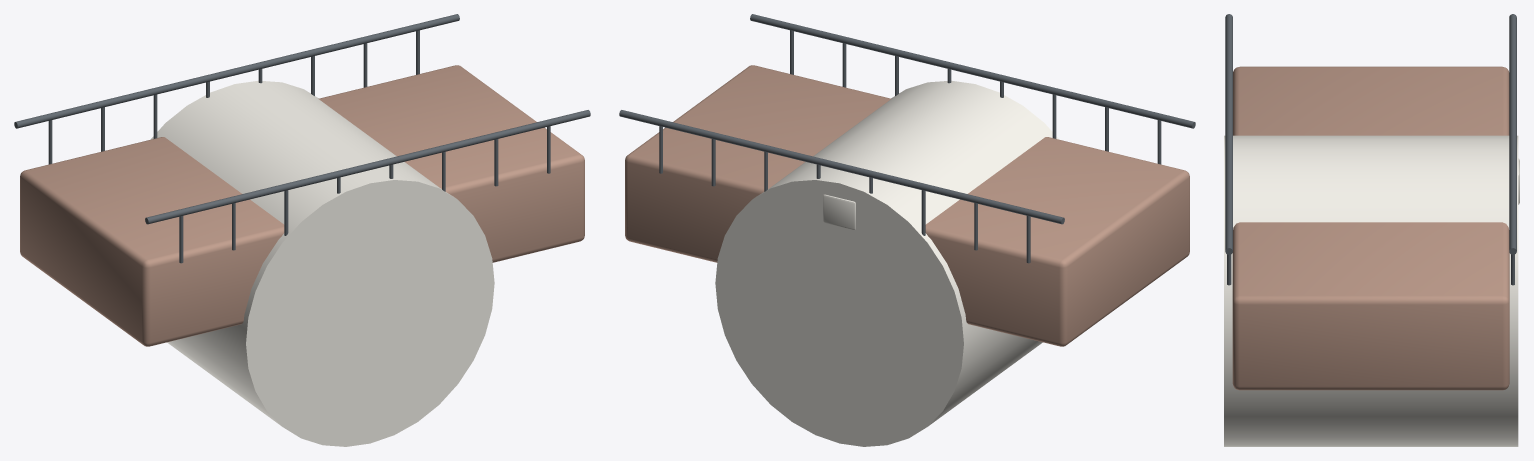
Rendered from arched-brick-canal-bridge.glb.
3 views of the same model, side by side, from view 1: azimuth 30°, elevation 25°; view 2: azimuth 150°, elevation 25°; view 3: azimuth 270°, elevation 25° (orthographic). The views are drawn at different scales.
Visible parts, largest first — view 1: bridge_ArchVault, bridge_HumpedSpan, bridge_Handrail_0.82, bridge_Handrail_-0.82; view 2: bridge_ArchVault, bridge_HumpedSpan, bridge_Handrail_-0.82, bridge_Handrail_0.82, bridge_LimestoneKeystone; view 3: bridge_HumpedSpan, bridge_ArchVault, bridge_Handrail_-0.82, bridge_Handrail_0.82.
Boxes of the visible parts, x1,y1,x2,y2 form: bridge_ArchVault: [150, 80, 494, 446]; bridge_HumpedSpan: [20, 65, 584, 346]; bridge_Handrail_0.82: [14, 14, 459, 128]; bridge_Handrail_-0.82: [145, 110, 590, 224]; bridge_ArchVault: [715, 80, 1059, 446]; bridge_HumpedSpan: [625, 65, 1189, 346]; bridge_Handrail_-0.82: [750, 14, 1195, 128]; bridge_Handrail_0.82: [619, 110, 1064, 224]; bridge_LimestoneKeystone: [823, 194, 855, 229]; bridge_HumpedSpan: [1232, 66, 1509, 390]; bridge_ArchVault: [1224, 135, 1518, 446]; bridge_Handrail_-0.82: [1225, 14, 1232, 254]; bridge_Handrail_0.82: [1509, 14, 1516, 254].
Bounding box in the file's own units: 3.2 × 1.92 × 1.71.
